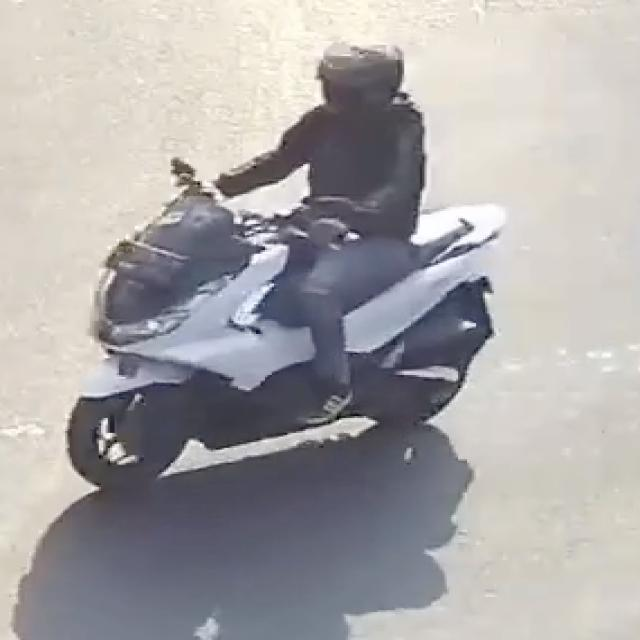helm: (302, 40, 436, 139)
motor: (60, 40, 513, 505)
spion: (236, 187, 372, 239), (154, 133, 212, 198)
